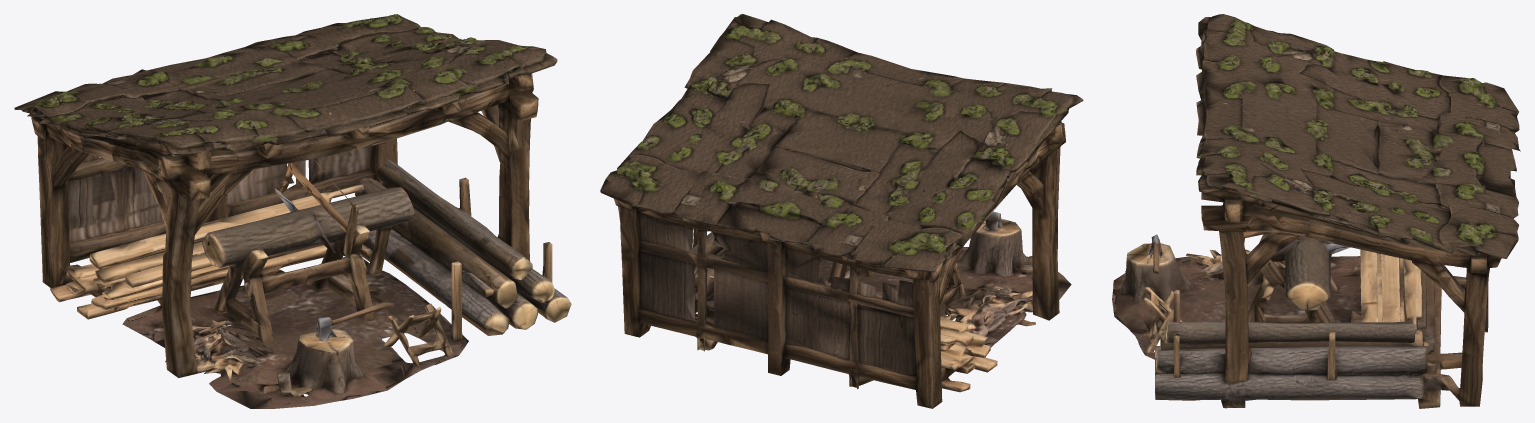
3 views of the same model, side by side, from view 1: azimuth 30°, elevation 25°; view 2: azimuth 150°, elevation 25°; view 3: azimuth 270°, elevation 25° (orthographic). The views are drawn at different scales.
Bounding box in the file's own units: 5 × 3.09 × 4.98.
Materials: 1 (1 with a texture image).
